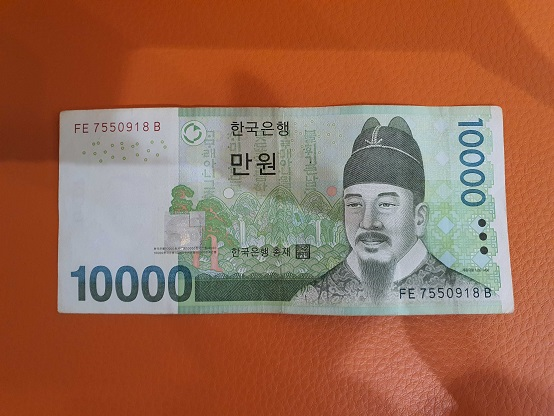10000won: (58, 106, 517, 316)
